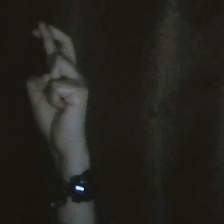R: (16, 10, 106, 161)
